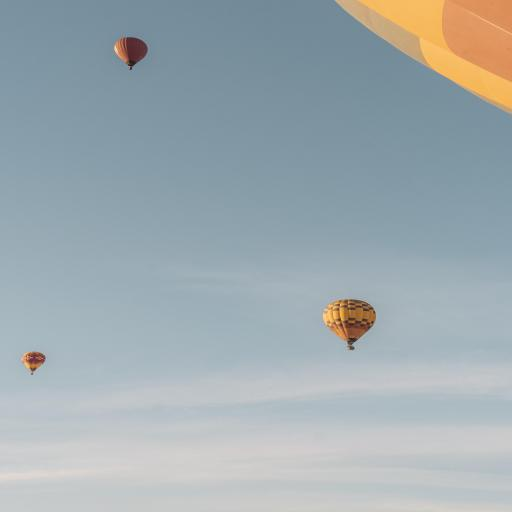hot air ballon: (323, 299, 377, 350), (114, 37, 148, 70), (21, 352, 46, 375)
